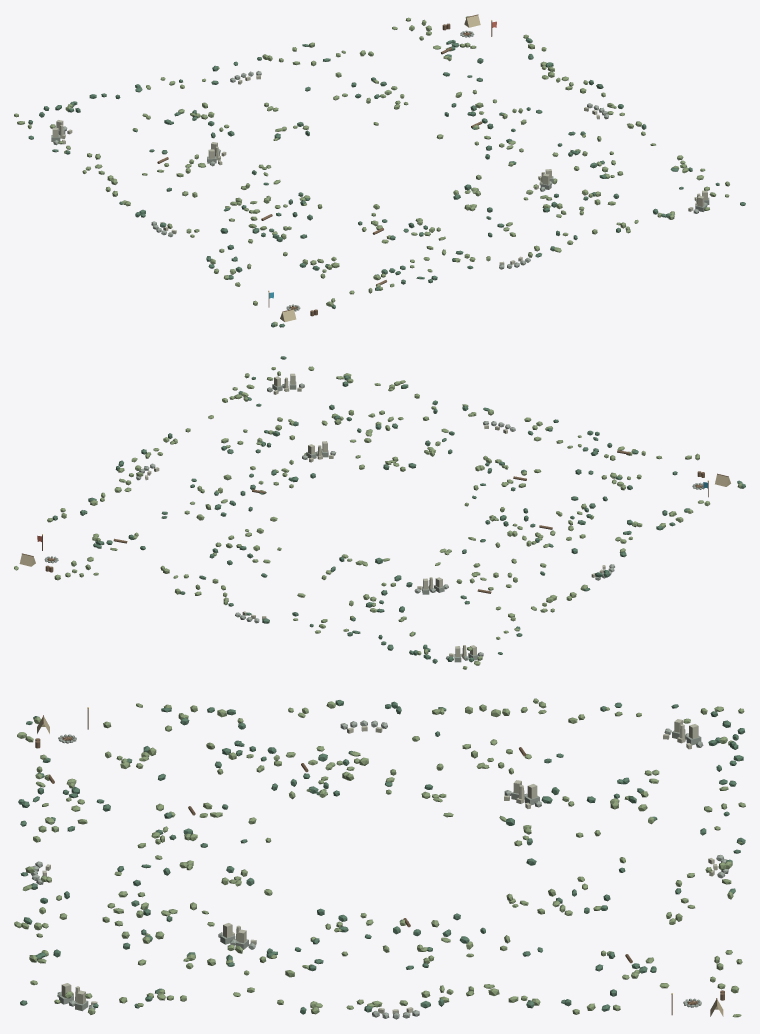
Rendered from SM_R01_Camps_and_Ruins.fbx.
The picture shows the model from 3 angles, top to bottom: view 1: azimuth 30°, elevation 25°; view 2: azimuth 150°, elevation 25°; view 3: azimuth 270°, elevation 25°; orthographic projection. The views are drawn at different scales.
Visible parts, largest first — view 1: SM_R01_Camps_and_Ruins; view 2: SM_R01_Camps_and_Ruins; view 3: SM_R01_Camps_and_Ruins.
Boxes of the visible parts, box(x1,y1,x2,y2) form: SM_R01_Camps_and_Ruins: box(14, 14, 745, 327); SM_R01_Camps_and_Ruins: box(14, 356, 745, 669); SM_R01_Camps_and_Ruins: box(14, 698, 745, 1019).
Bounding box in the file's own units: 103 × 103 × 4.3.
